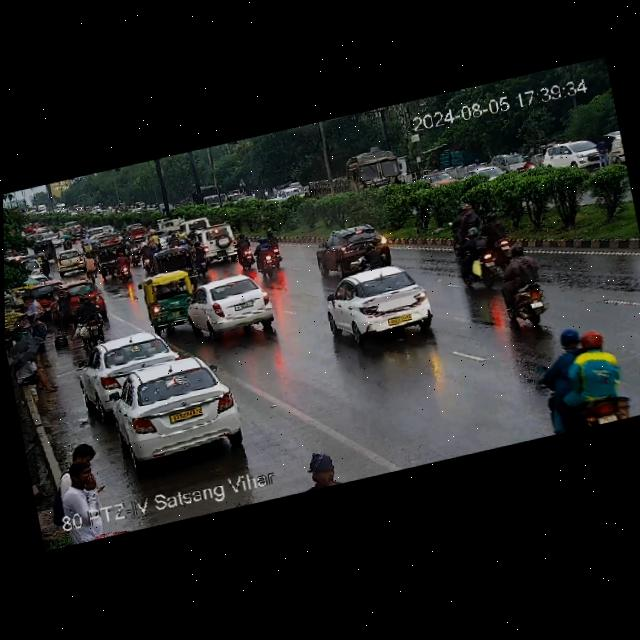car: (98, 347, 254, 482), (313, 251, 444, 353), (72, 320, 196, 425), (177, 257, 291, 358), (310, 210, 396, 284), (134, 260, 203, 335), (47, 273, 116, 331), (538, 129, 606, 175), (194, 215, 244, 270), (21, 276, 70, 326), (150, 241, 203, 287), (91, 236, 133, 282), (459, 156, 507, 187), (48, 242, 87, 279), (491, 143, 531, 177), (10, 253, 50, 286), (416, 165, 461, 194), (177, 211, 213, 240), (601, 126, 626, 167), (33, 235, 61, 264), (142, 225, 172, 251), (273, 180, 306, 202), (83, 235, 107, 261), (125, 219, 150, 241), (59, 216, 83, 236), (224, 184, 248, 203), (83, 224, 108, 242), (41, 228, 62, 249), (24, 229, 48, 246)
motorcycle: (504, 303, 640, 442), (487, 235, 565, 330), (451, 220, 510, 295), (470, 200, 521, 267), (66, 288, 109, 350), (441, 193, 486, 252), (250, 231, 285, 279), (353, 238, 395, 273), (229, 228, 259, 275), (257, 223, 284, 266), (108, 242, 133, 287), (136, 237, 157, 274), (123, 236, 144, 269), (143, 227, 166, 256), (520, 152, 542, 171)
person: (40, 427, 124, 515), (292, 432, 358, 493), (50, 456, 111, 517), (7, 339, 58, 405), (6, 328, 54, 381), (51, 284, 81, 330), (20, 290, 51, 329), (590, 134, 612, 169)
truck: (301, 139, 416, 206), (189, 181, 231, 213), (152, 207, 190, 240)
